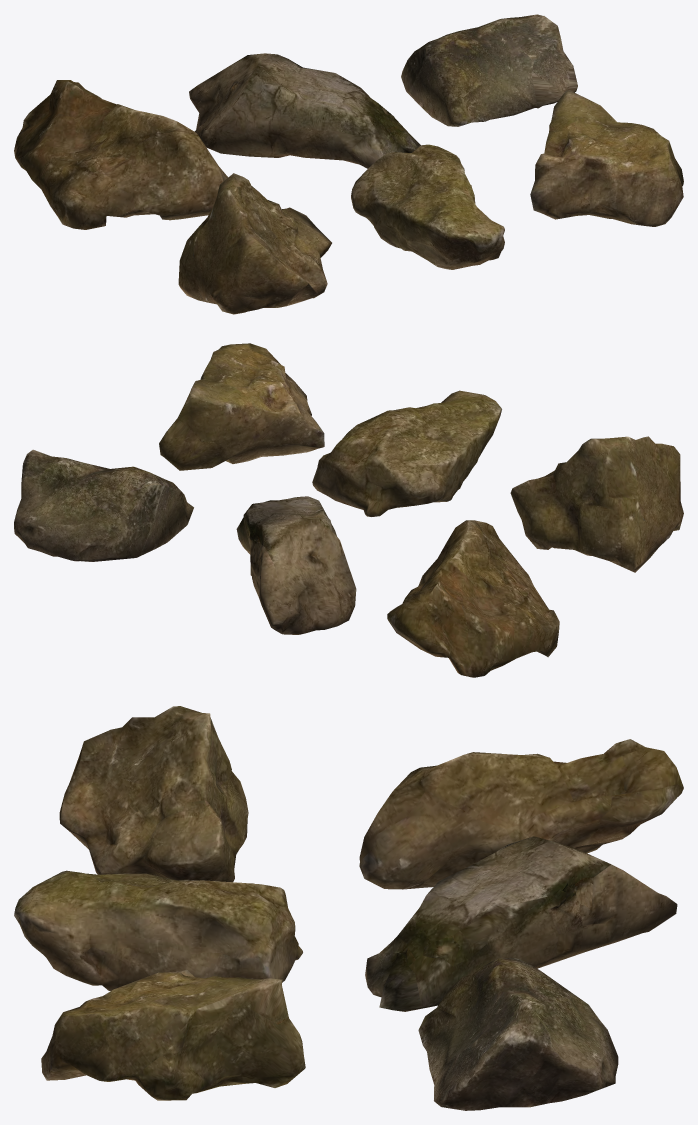
The model's file is rock_moss_set_01.glb.
3 views of the same model, one above another, from view 1: azimuth 30°, elevation 25°; view 2: azimuth 150°, elevation 25°; view 3: azimuth 270°, elevation 25° (orthographic). The views are drawn at different scales.
Visible parts, largest first — view 1: rock_moss_set_01_rock01, rock_moss_set_01_rock02, rock_moss_set_01_rock06, rock_moss_set_01_rock04, rock_moss_set_01_rock03, rock_moss_set_01_rock05; view 2: rock_moss_set_01_rock04, rock_moss_set_01_rock01, rock_moss_set_01_rock05, rock_moss_set_01_rock03, rock_moss_set_01_rock06, rock_moss_set_01_rock02; view 3: rock_moss_set_01_rock01, rock_moss_set_01_rock02, rock_moss_set_01_rock05, rock_moss_set_01_rock04, rock_moss_set_01_rock06, rock_moss_set_01_rock03.
Part boxes in pixels (<box>): rock_moss_set_01_rock01: <box>14,80,227,229</box>; rock_moss_set_01_rock02: <box>189,53,420,168</box>; rock_moss_set_01_rock06: <box>530,90,683,226</box>; rock_moss_set_01_rock04: <box>178,173,331,314</box>; rock_moss_set_01_rock03: <box>401,14,577,126</box>; rock_moss_set_01_rock05: <box>351,144,504,269</box>; rock_moss_set_01_rock04: <box>510,436,683,572</box>; rock_moss_set_01_rock01: <box>387,520,559,677</box>; rock_moss_set_01_rock05: <box>312,390,501,516</box>; rock_moss_set_01_rock03: <box>14,449,193,561</box>; rock_moss_set_01_rock06: <box>159,343,324,470</box>; rock_moss_set_01_rock02: <box>236,496,356,634</box>; rock_moss_set_01_rock01: <box>359,739,683,889</box>; rock_moss_set_01_rock02: <box>365,836,677,1011</box>; rock_moss_set_01_rock05: <box>14,870,302,990</box>; rock_moss_set_01_rock04: <box>59,706,248,882</box>; rock_moss_set_01_rock06: <box>41,969,305,1100</box>; rock_moss_set_01_rock03: <box>418,958,618,1110</box>.
Size of the model in its own units: 8 by 1.76 by 6.94.
1 material, 1 textured.
